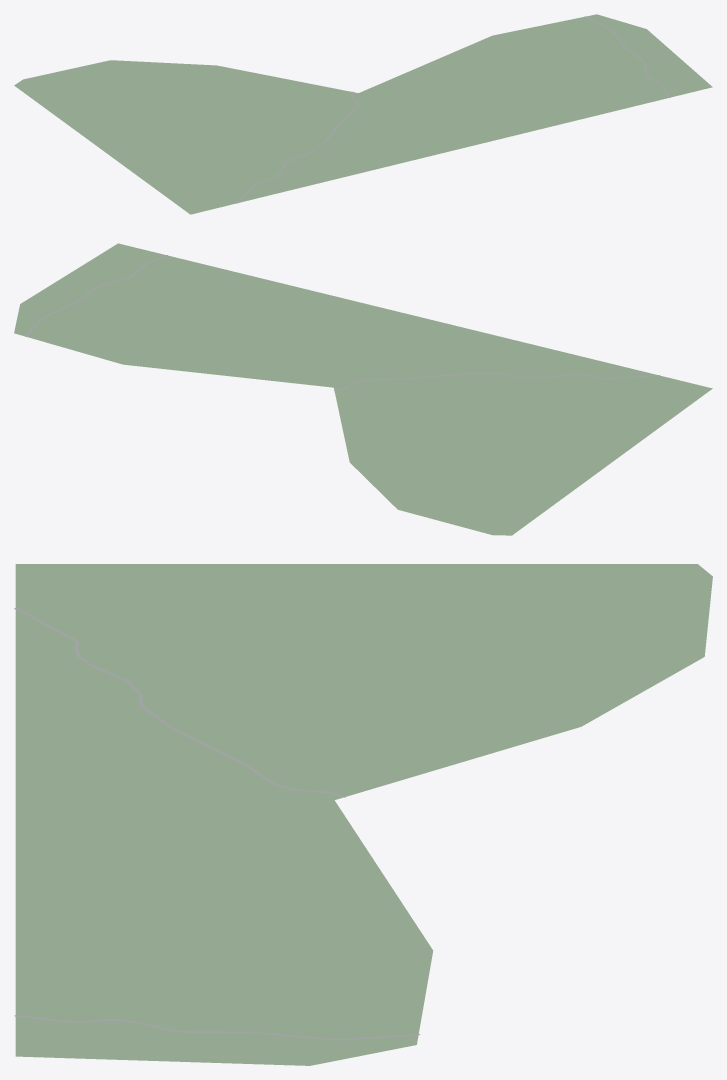
File: 18_7-known-coarse.glb
The picture shows the model from 3 angles, top to bottom: view 1: azimuth 30°, elevation 25°; view 2: azimuth 150°, elevation 25°; view 3: azimuth 270°, elevation 25°; orthographic projection. The views are drawn at different scales.
Bounding box in the file's own units: 989 × 0.1 × 582.
